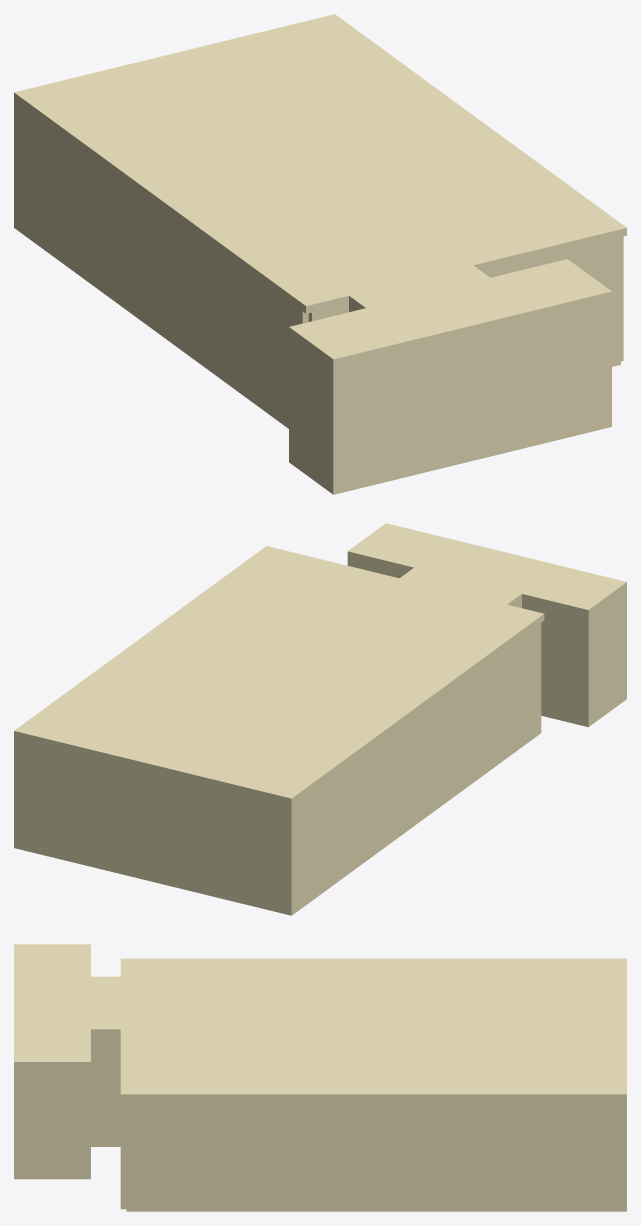
The picture shows the model from 3 angles, top to bottom: view 1: azimuth 30°, elevation 25°; view 2: azimuth 150°, elevation 25°; view 3: azimuth 270°, elevation 25°; orthographic projection. The views are drawn at different scales.
Parts seen in each view (by area): view 1: Teto, Parede.L, Parede.F; view 2: Teto, Parede.L, Parede.F; view 3: Teto, Parede.L, Parede.F.
Boxes of the visible parts, x1,y1,x2,y2 form: Teto: (18,17,626,367); Parede.L: (18,103,623,494); Parede.F: (14,14,338,230); Teto: (18,523,626,802); Parede.L: (295,558,626,912); Parede.F: (14,728,295,915); Teto: (14,944,619,1101); Parede.L: (14,1036,619,1211); Parede.F: (619,958,626,1211).
Size of the model in its own units: 42.98 by 15.67 by 74.13.
